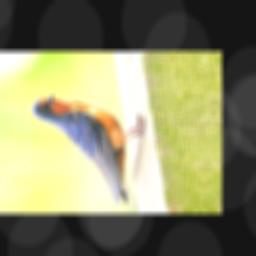Swallow: (15, 92, 157, 205)
